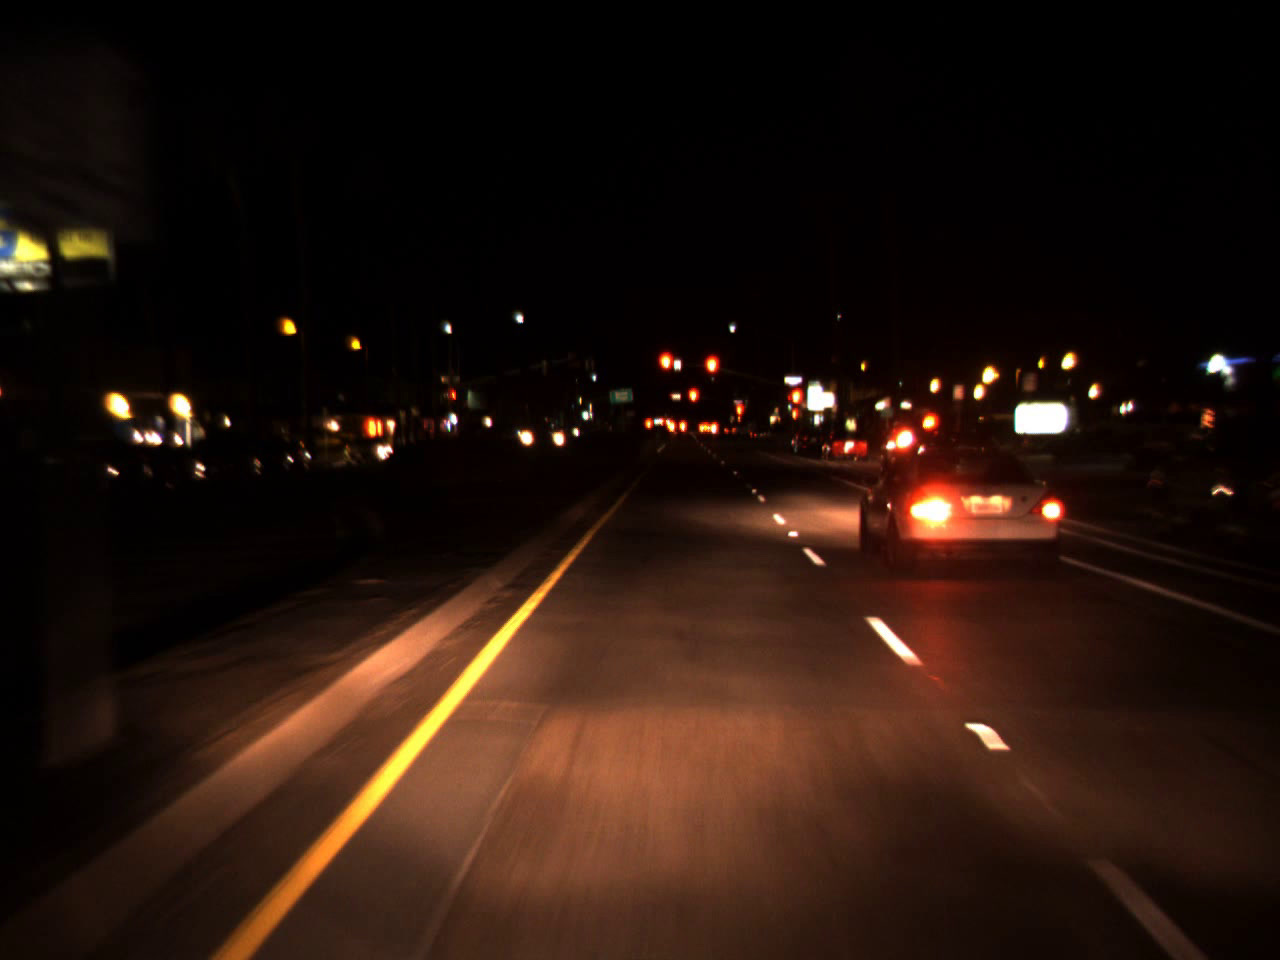stop: (656, 349, 677, 389), (441, 382, 459, 425), (703, 353, 721, 393), (788, 385, 804, 425), (686, 385, 699, 420), (735, 401, 744, 430)
